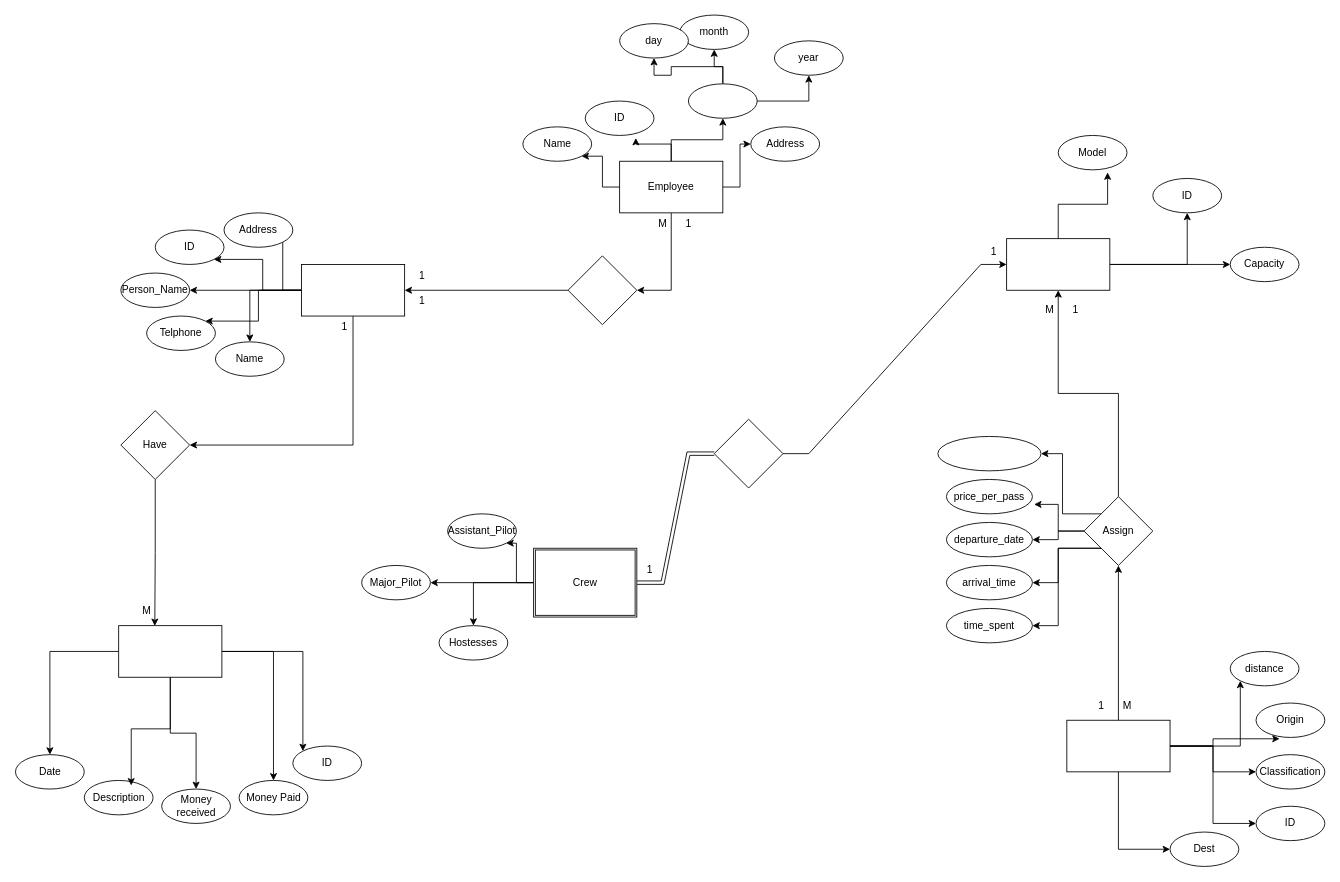
Image size: 1340x882. Some labels were removed from this diagram. Here are the shapes that lost their labels. From the top down, the box of each, then its label:
(688, 83, 757, 118): Birth_Date
(1006, 238, 1110, 290): Aircraft
(301, 264, 405, 316): Airline
(567, 255, 637, 325): Work
(713, 418, 783, 488): Has
(937, 436, 1041, 471): no_of_passengers
(118, 625, 222, 677): Transaction
(1066, 719, 1170, 772): Route
